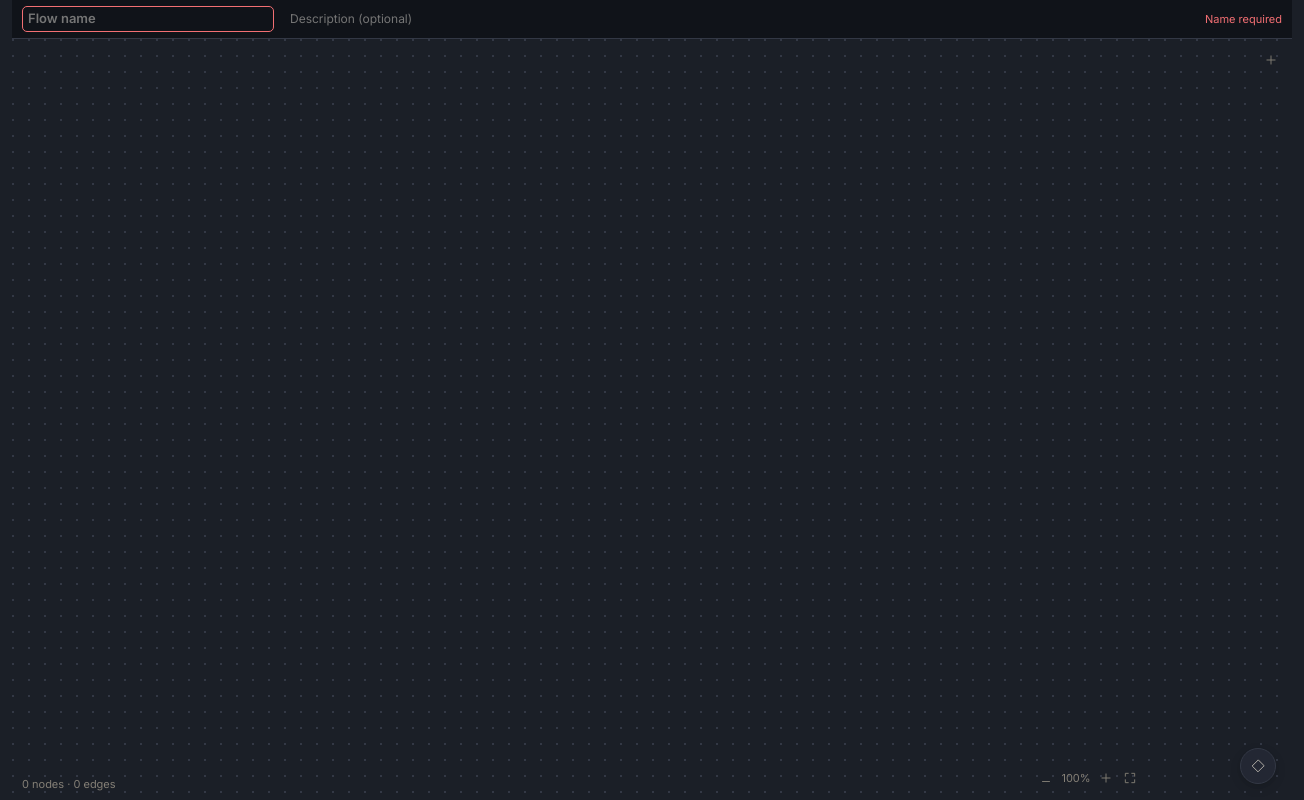
Test: the add menu (FLO-FR-07, FLO-FR-09, FLO-FR-15, FLO-FR-26 / FLO-FR-37, FLO-FR-38, FLO-FR-10) › offers Node and Loop, and adds neither until one is chosen
Click the button named "Add to flow" at [1271, 60], box [1258,46,1284,72]
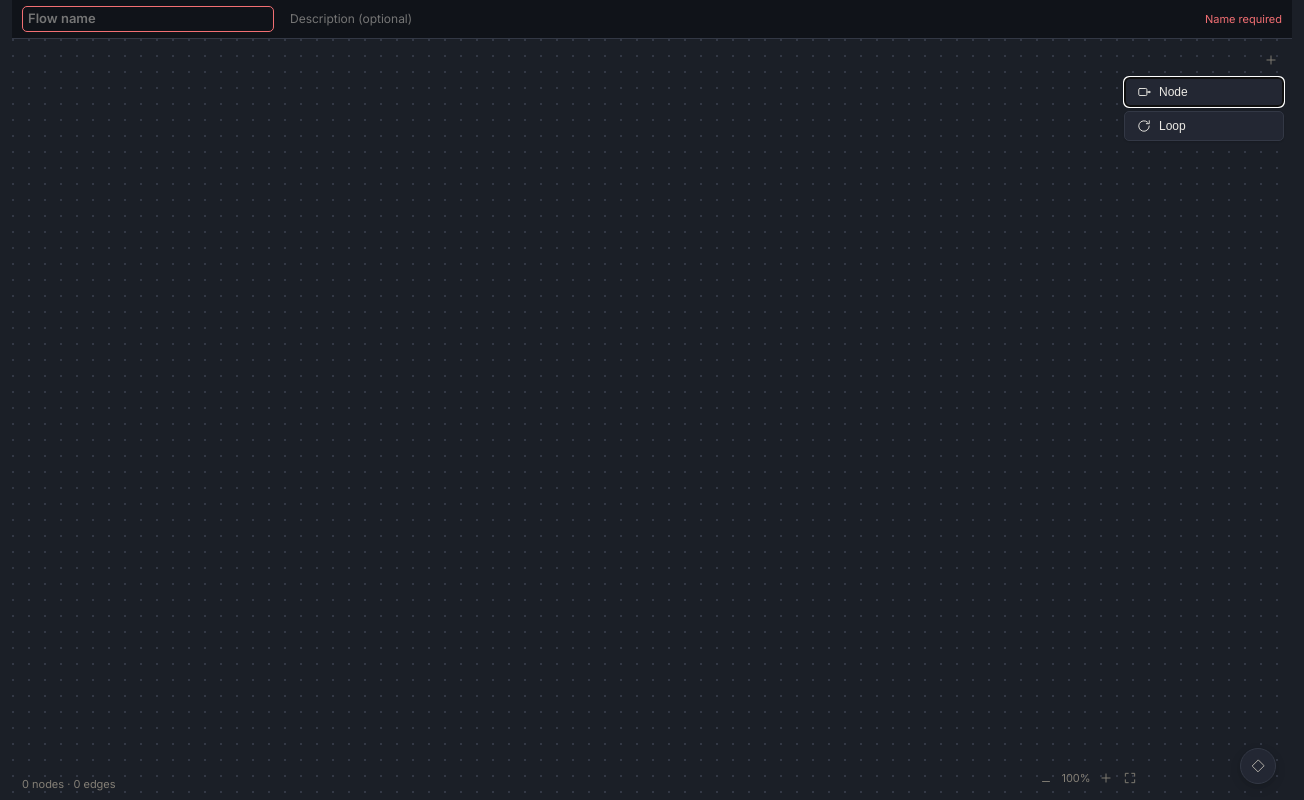
Expected: the menu items read "Node", "Loop", in this order, [1124,76,1284,106]; [1124,110,1284,140]
Expected: the 3rd icon is shown, [1137,84,1151,98]
Expected: the 4th icon is shown, [1137,118,1151,132]
FLO-FR-07: Escape closes it and adds nothing.
Press Escape in the menu with test id "flow-add-menu", box [1124,76,1284,140]
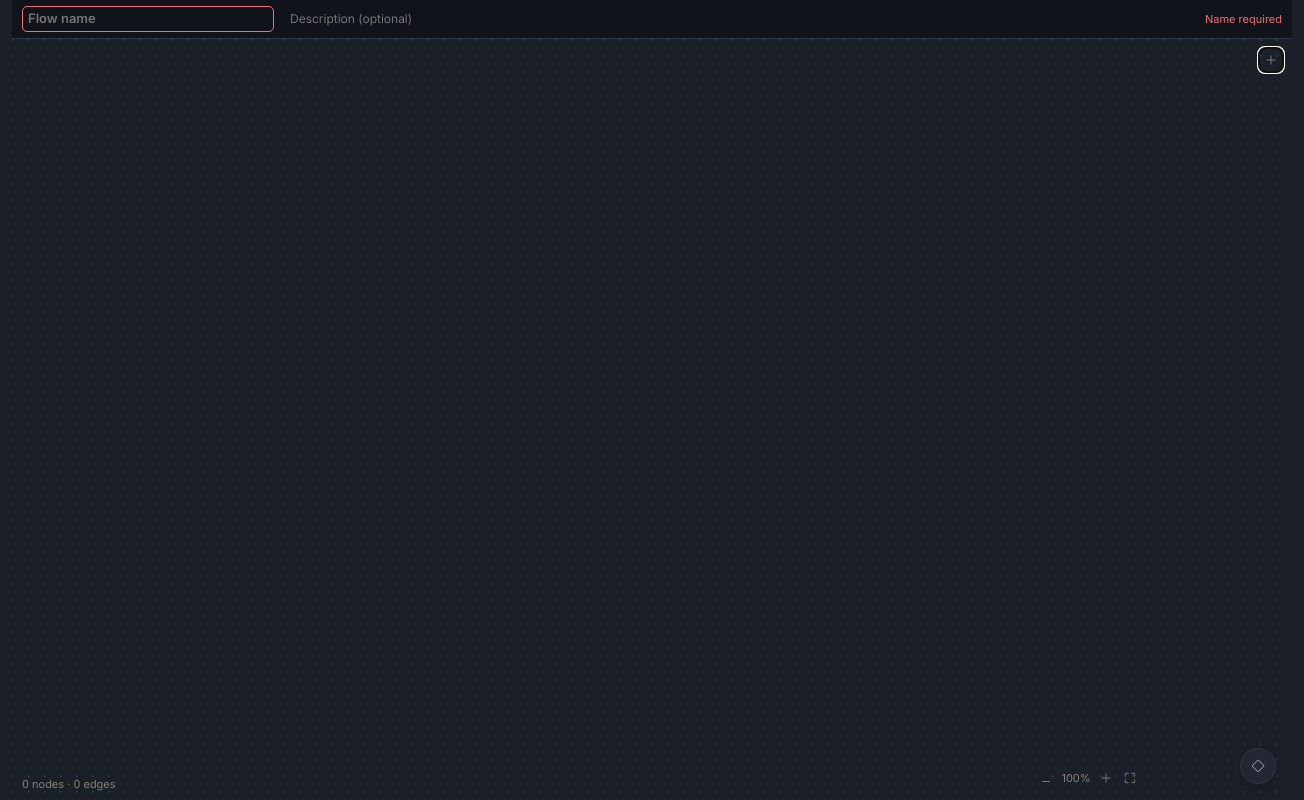
Expected: the menu with test id "flow-add-menu" is gone
